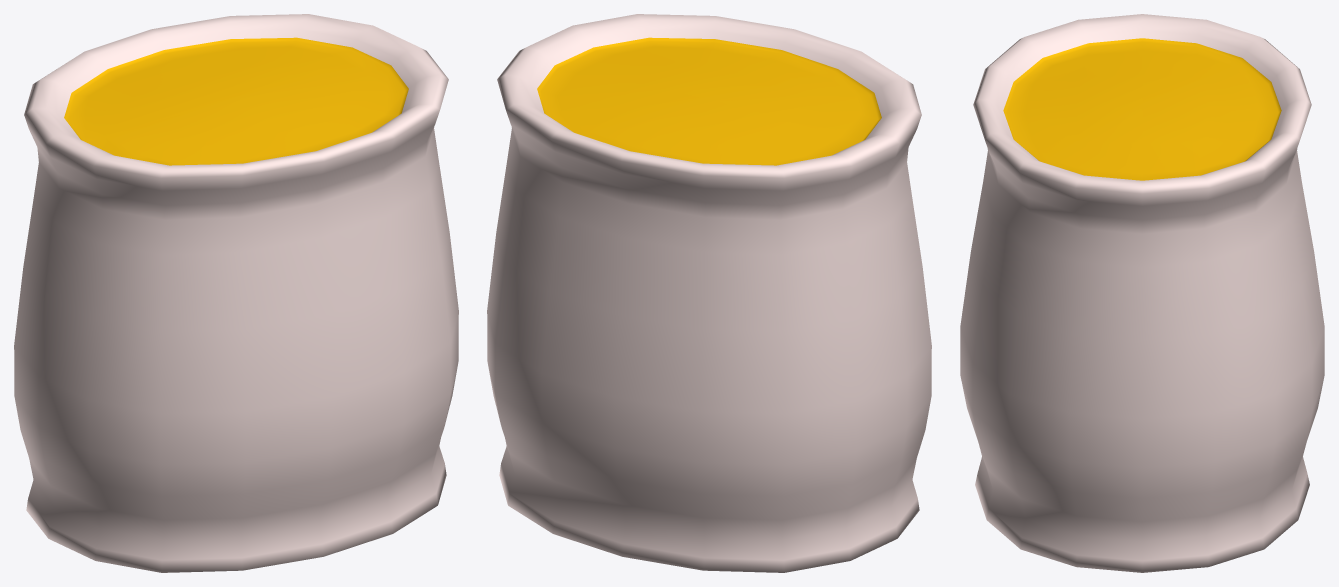
Rendered from Farm_8_Open_bag_1.glb.
3 views of the same model, side by side, from view 1: azimuth 30°, elevation 25°; view 2: azimuth 150°, elevation 25°; view 3: azimuth 270°, elevation 25° (orthographic). The views are drawn at different scales.
Visible parts, largest first — view 1: Farm_8_Open_bag_1; view 2: Farm_8_Open_bag_1; view 3: Farm_8_Open_bag_1.
Part boxes in pixels (x1,y1,x2,y2): Farm_8_Open_bag_1: (14, 14, 458, 572); Farm_8_Open_bag_1: (487, 14, 931, 572); Farm_8_Open_bag_1: (960, 14, 1324, 572).
Size of the model in its own units: 1.01 by 0.9905 by 0.8372.
Materials: 1 (1 with a texture image).
